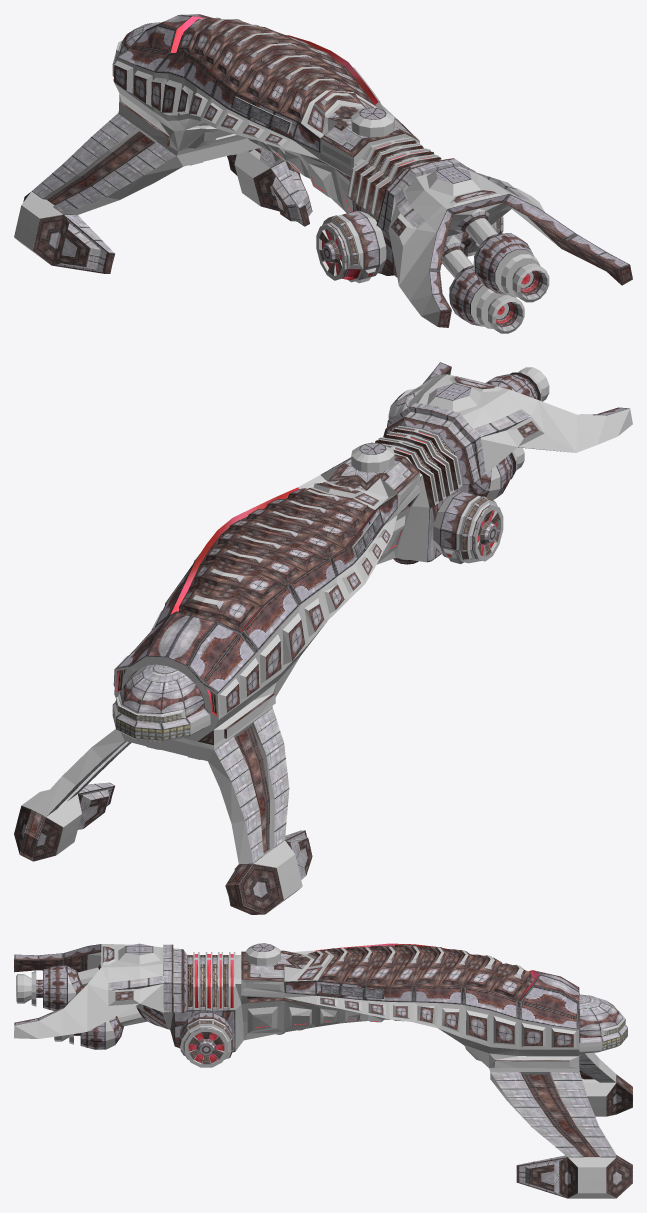
File: bret textured.obj
3 renders of one model, top to bottom at view 1: azimuth 30°, elevation 25°; view 2: azimuth 150°, elevation 25°; view 3: azimuth 270°, elevation 25°, orthographic. The views are drawn at different scales.
Visible parts, largest first — view 1: WIP-Bret.001_WIP-Bret.004; view 2: WIP-Bret.001_WIP-Bret.004; view 3: WIP-Bret.001_WIP-Bret.004.
Part boxes in pixels (x1,y1,x2,y2): WIP-Bret.001_WIP-Bret.004: [14, 14, 632, 333]; WIP-Bret.001_WIP-Bret.004: [14, 362, 632, 914]; WIP-Bret.001_WIP-Bret.004: [14, 943, 632, 1198].
Size of the model in its own units: 81.9 by 78.43 by 212.
